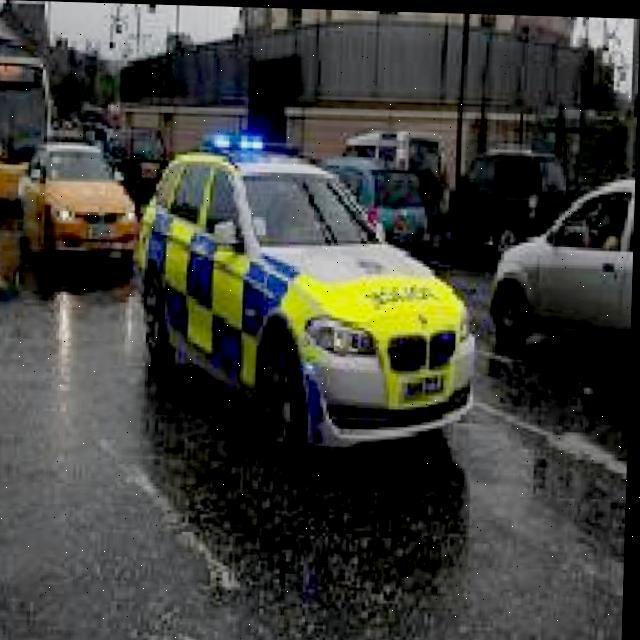emergency: (130, 133, 486, 463)
